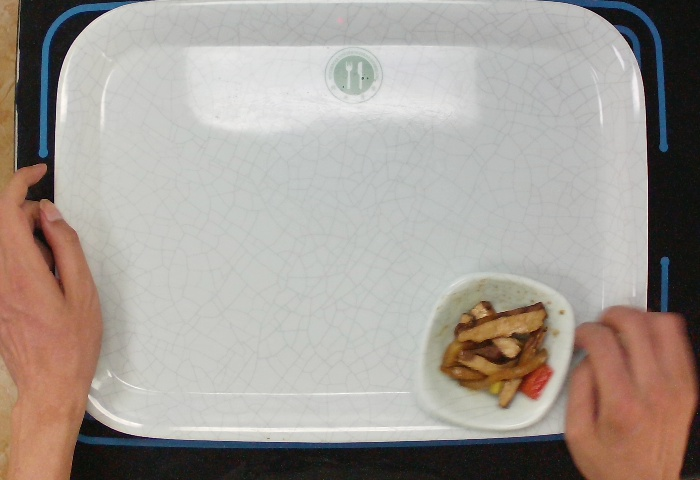JYsf-Si_Fang_Die: (414, 269, 582, 435)
